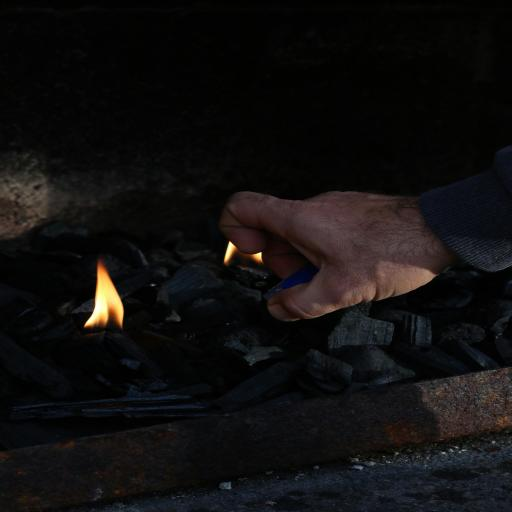fire: (52, 254, 136, 338)
lighter: (204, 228, 346, 322)
